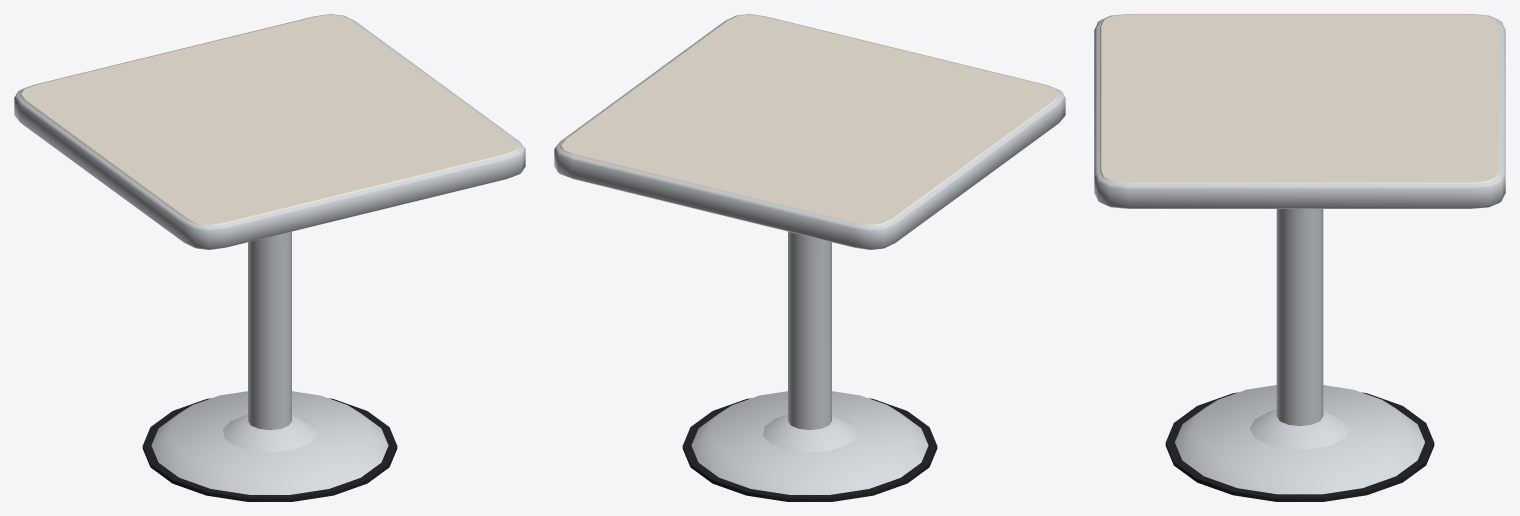
Rendered from Shop_Table.fbx.
3 views of the same model, side by side, from view 1: azimuth 30°, elevation 25°; view 2: azimuth 150°, elevation 25°; view 3: azimuth 270°, elevation 25° (orthographic). The views are drawn at different scales.
Visible parts, largest first — view 1: Top, Frame, Glide; view 2: Top, Frame, Glide; view 3: Top, Frame, Glide.
Part boxes in pixels (<box>): Top: <box>20,14,519,226</box>; Frame: <box>14,14,525,494</box>; Glide: <box>142,398,397,501</box>; Top: <box>560,14,1059,226</box>; Frame: <box>554,14,1065,494</box>; Glide: <box>682,398,937,501</box>; Top: <box>1100,14,1499,184</box>; Frame: <box>1094,14,1505,494</box>; Glide: <box>1165,392,1434,501</box>.
Bounding box in the file's own units: 300 × 280 × 300.
